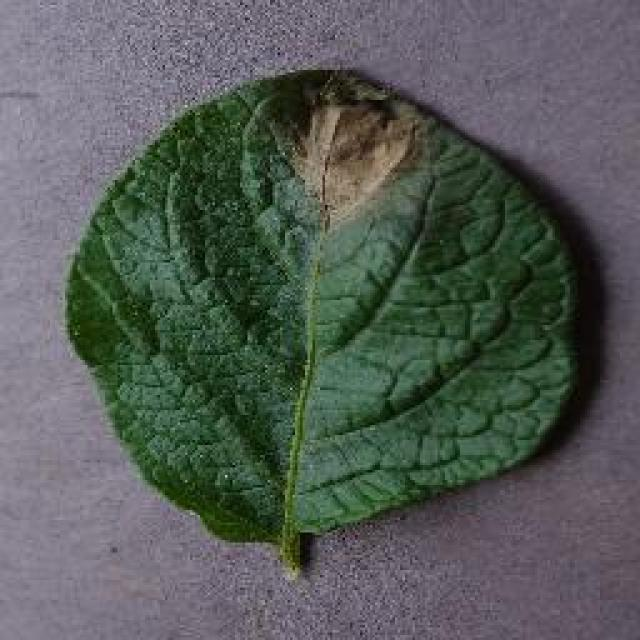late_blight: (58, 63, 588, 575)
